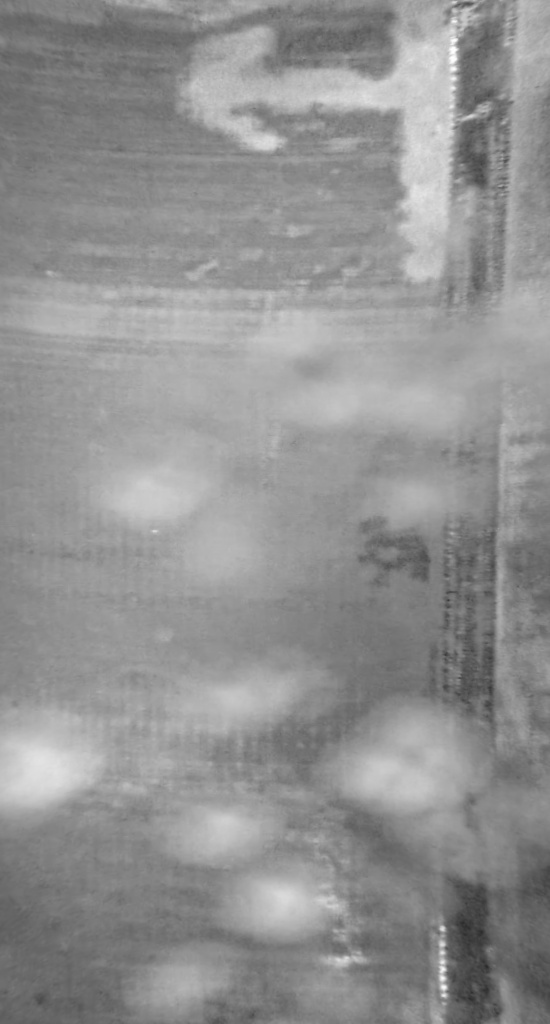splice: (433, 1, 525, 1024)
